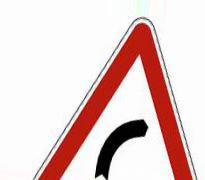right: (32, 18, 194, 180)
